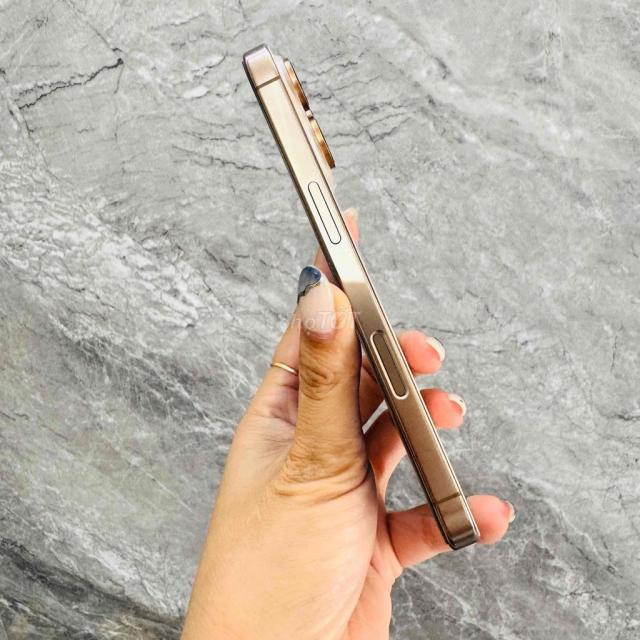gen_16: (233, 23, 492, 552)
